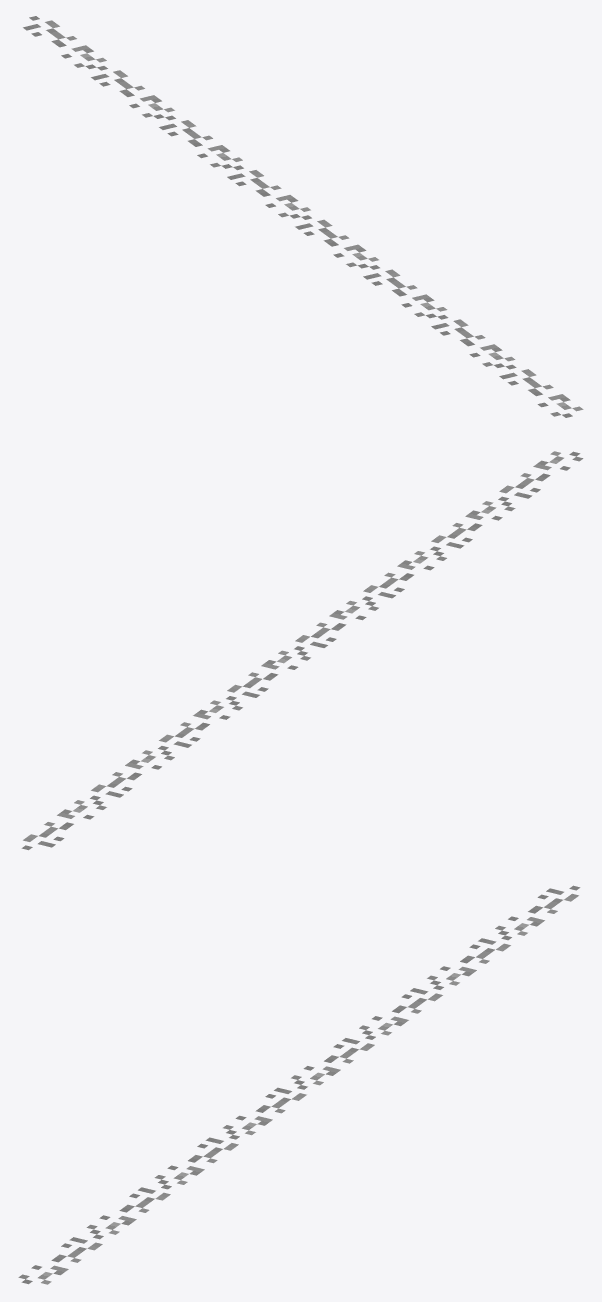
The model's file is block_tripwire_attached_ns.gltf.
3 renders of one model, top to bottom at view 1: azimuth 30°, elevation 25°; view 2: azimuth 150°, elevation 25°; view 3: azimuth 330°, elevation 25°, orthographic.
Parts seen in each view (by area): view 1: cube (×4); view 2: cube (×4); view 3: cube (×4).
Boxes of the visible parts, left/top/right/bottom form: cube (×4): left=23, top=16, right=583, bottom=417; cube (×4): left=21, top=451, right=583, bottom=850; cube (×4): left=18, top=885, right=580, bottom=1284.
Size of the model in its own units: 0.0312 by 6.25e-05 by 1.
Materials: 1 (1 with a texture image).
